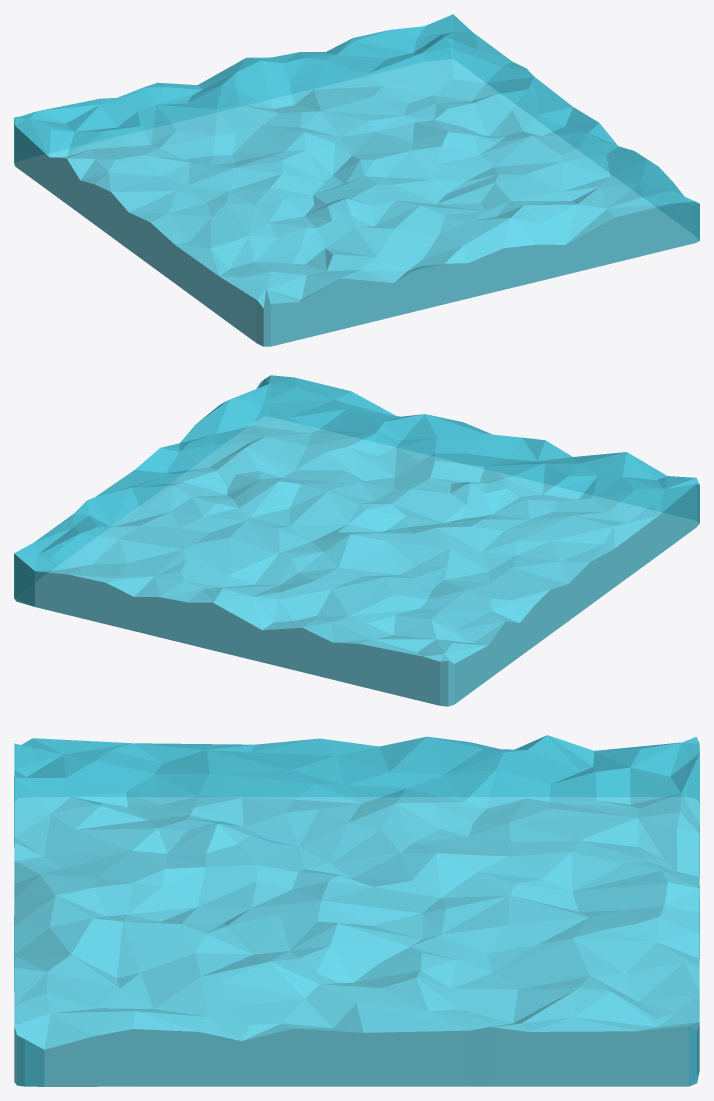
File: testsea.fbx
3 renders of one model, top to bottom at view 1: azimuth 30°, elevation 25°; view 2: azimuth 150°, elevation 25°; view 3: azimuth 270°, elevation 25°, orthographic. The views are drawn at different scales.
Parts seen in each view (by area): view 1: Sea; view 2: Sea; view 3: Sea.
Boxes of the visible parts, x1,y1,x2,y2 form: Sea: [14, 14, 699, 346]; Sea: [14, 375, 699, 706]; Sea: [14, 735, 699, 1086].
Bounding box in the file's own units: 42.76 × 5.31 × 42.75.
